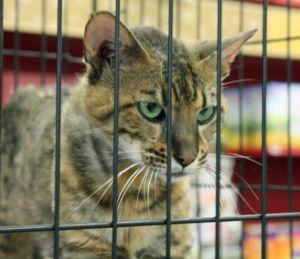bengal: (70, 2, 262, 193)
